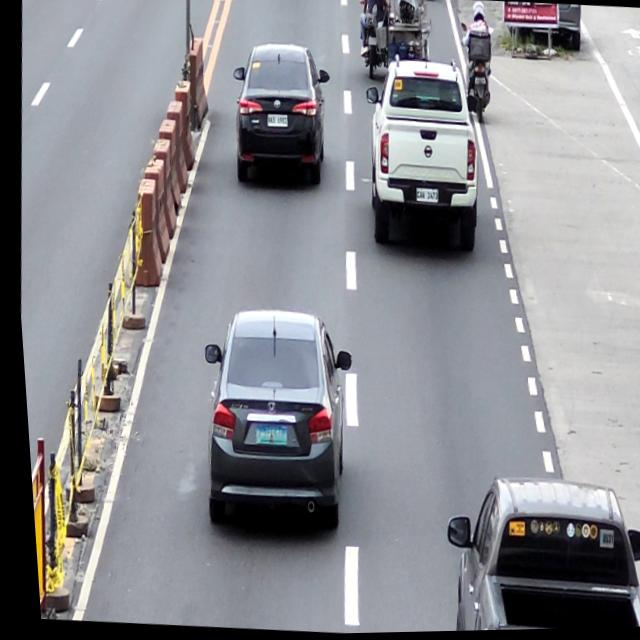Car: (185, 304, 358, 543), (428, 472, 640, 633), (353, 52, 488, 258), (221, 39, 335, 196)
License-Plate: (247, 423, 284, 450), (411, 188, 437, 207), (264, 114, 289, 130)
Motorcycle: (454, 22, 498, 127)
Tricycle: (355, 0, 436, 78)
